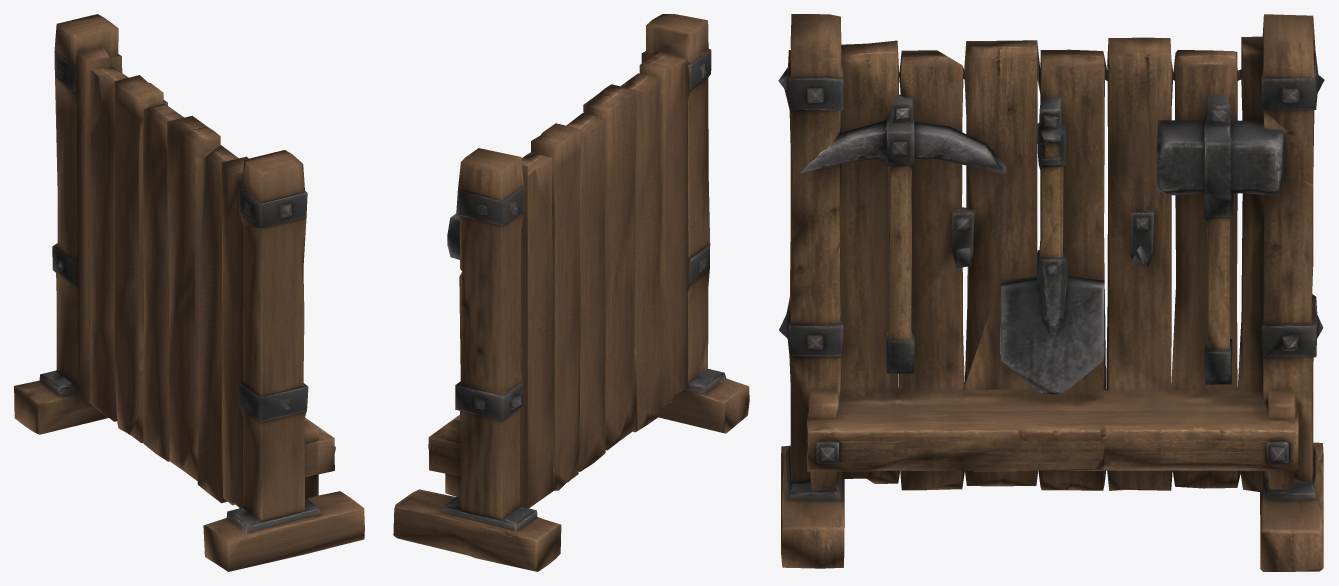
The picture shows the model from 3 angles, left to right: view 1: azimuth 30°, elevation 25°; view 2: azimuth 150°, elevation 25°; view 3: azimuth 270°, elevation 25°; orthographic projection. The views are drawn at different scales.
Visible parts, largest first — view 1: tripo_node_b871bac4-8e7a-4bd3-a10f-5f44b75386f1; view 2: tripo_node_b871bac4-8e7a-4bd3-a10f-5f44b75386f1; view 3: tripo_node_b871bac4-8e7a-4bd3-a10f-5f44b75386f1.
Boxes of the visible parts, bbox=[...] form: tripo_node_b871bac4-8e7a-4bd3-a10f-5f44b75386f1: bbox=[14, 14, 364, 571]; tripo_node_b871bac4-8e7a-4bd3-a10f-5f44b75386f1: bbox=[393, 14, 749, 571]; tripo_node_b871bac4-8e7a-4bd3-a10f-5f44b75386f1: bbox=[778, 14, 1324, 571].
Bounding box in the file's own units: 0.3838 × 0.9973 × 1.
1 material, 1 textured.
